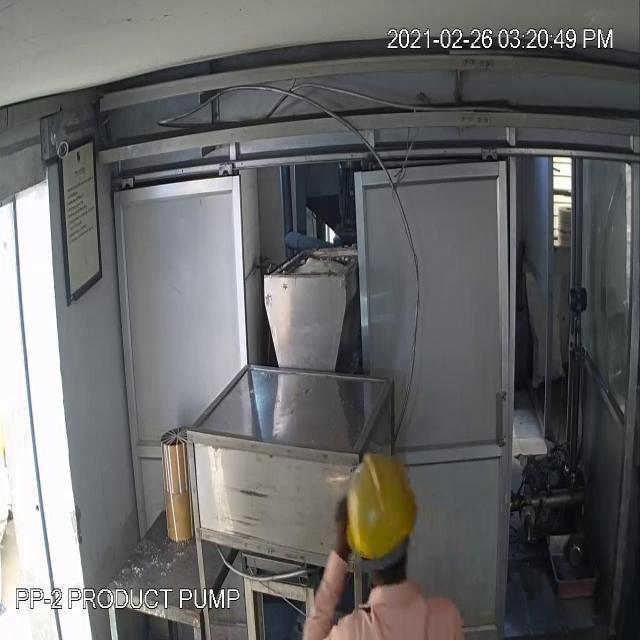hat: (331, 447, 427, 571)
